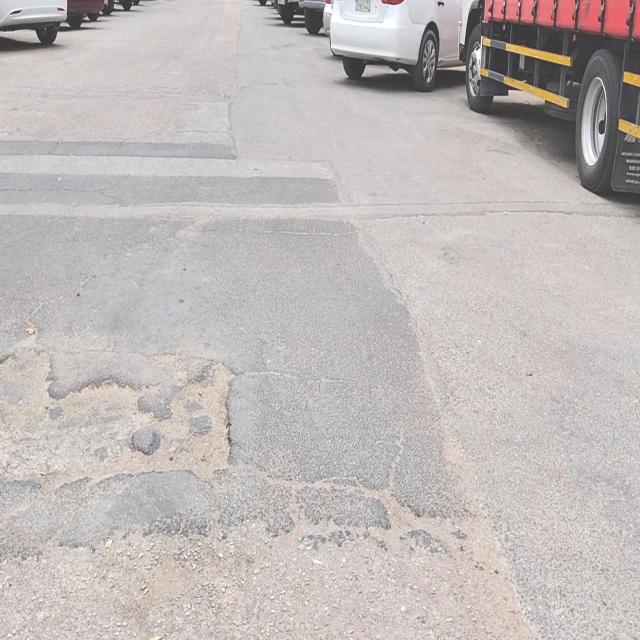Potholes: (133, 356, 241, 487), (36, 369, 136, 494)
